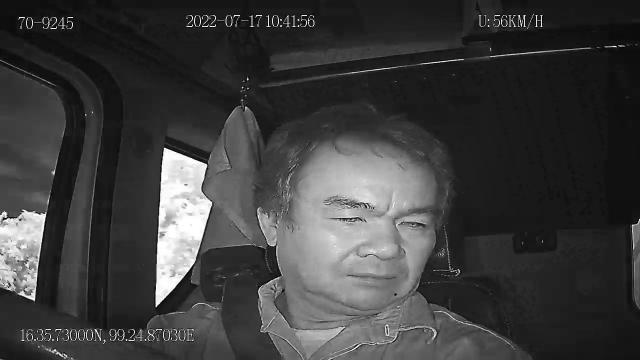SafeDriving: (321, 202, 374, 231), (388, 209, 436, 236)
Seatbelt: (220, 272, 284, 360)
